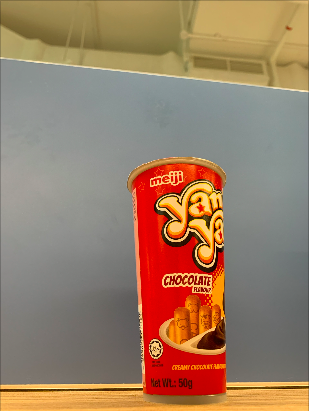Cookies_1-99g: (143, 175, 216, 393)
